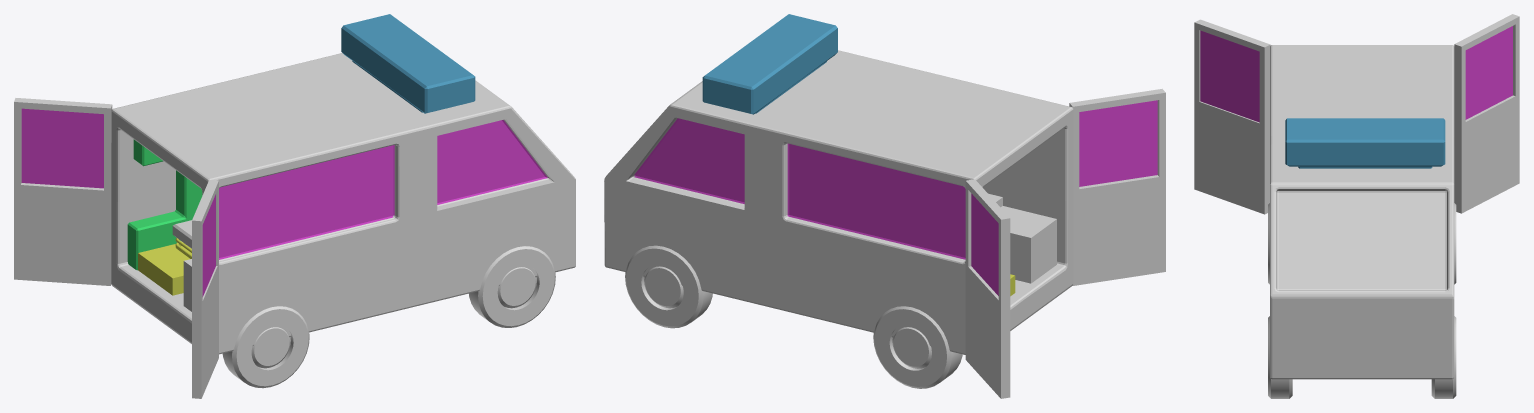
Rendered from Ambulance.fbx.
3 renders of one model, left to right at view 1: azimuth 30°, elevation 25°; view 2: azimuth 150°, elevation 25°; view 3: azimuth 270°, elevation 25°, orthographic. The views are drawn at different scales.
Parts seen in each view (by area): view 1: Car, DoorR, DoorL, Tire.003, Tire.002; view 2: Car, DoorL, DoorR, Tire, Tire.001; view 3: Car, DoorL, DoorR, Tire.001, Tire.002.
Boxes of the visible parts, x1,y1,x2,y2 form: Car: (111,14,575,354); DoorR: (14,98,112,285); DoorL: (192,179,218,398); Tire.003: (222,306,309,388); Tire.002: (469,246,555,327); Car: (604,14,1073,354); DoorL: (1069,88,1165,285); DoorR: (965,179,1010,398); Tire: (873,306,962,388); Tire.001: (625,245,712,328); Car: (1270,45,1454,379); DoorL: (1194,19,1270,214); DoorR: (1454,14,1519,213); Tire.001: (1431,316,1456,398); Tire.002: (1268,316,1292,398).
Bounding box in the file's own units: 2.99 × 2.06 × 1.68.
